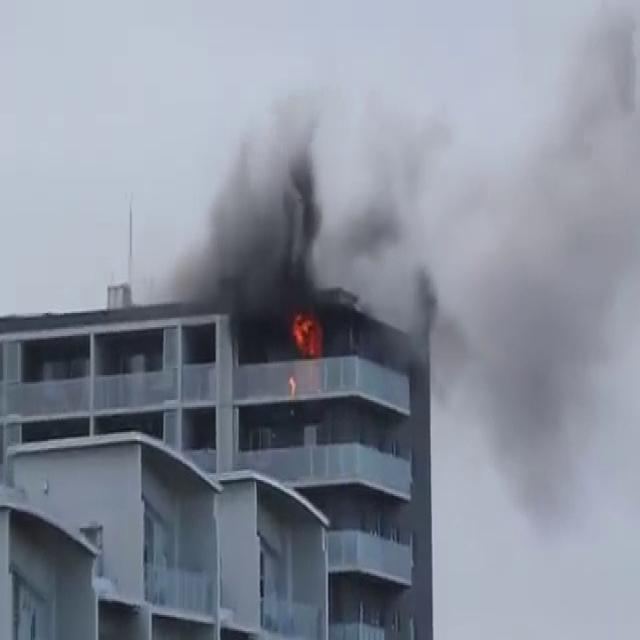Fire: (286, 304, 326, 361)
Smoke: (178, 0, 640, 364)
